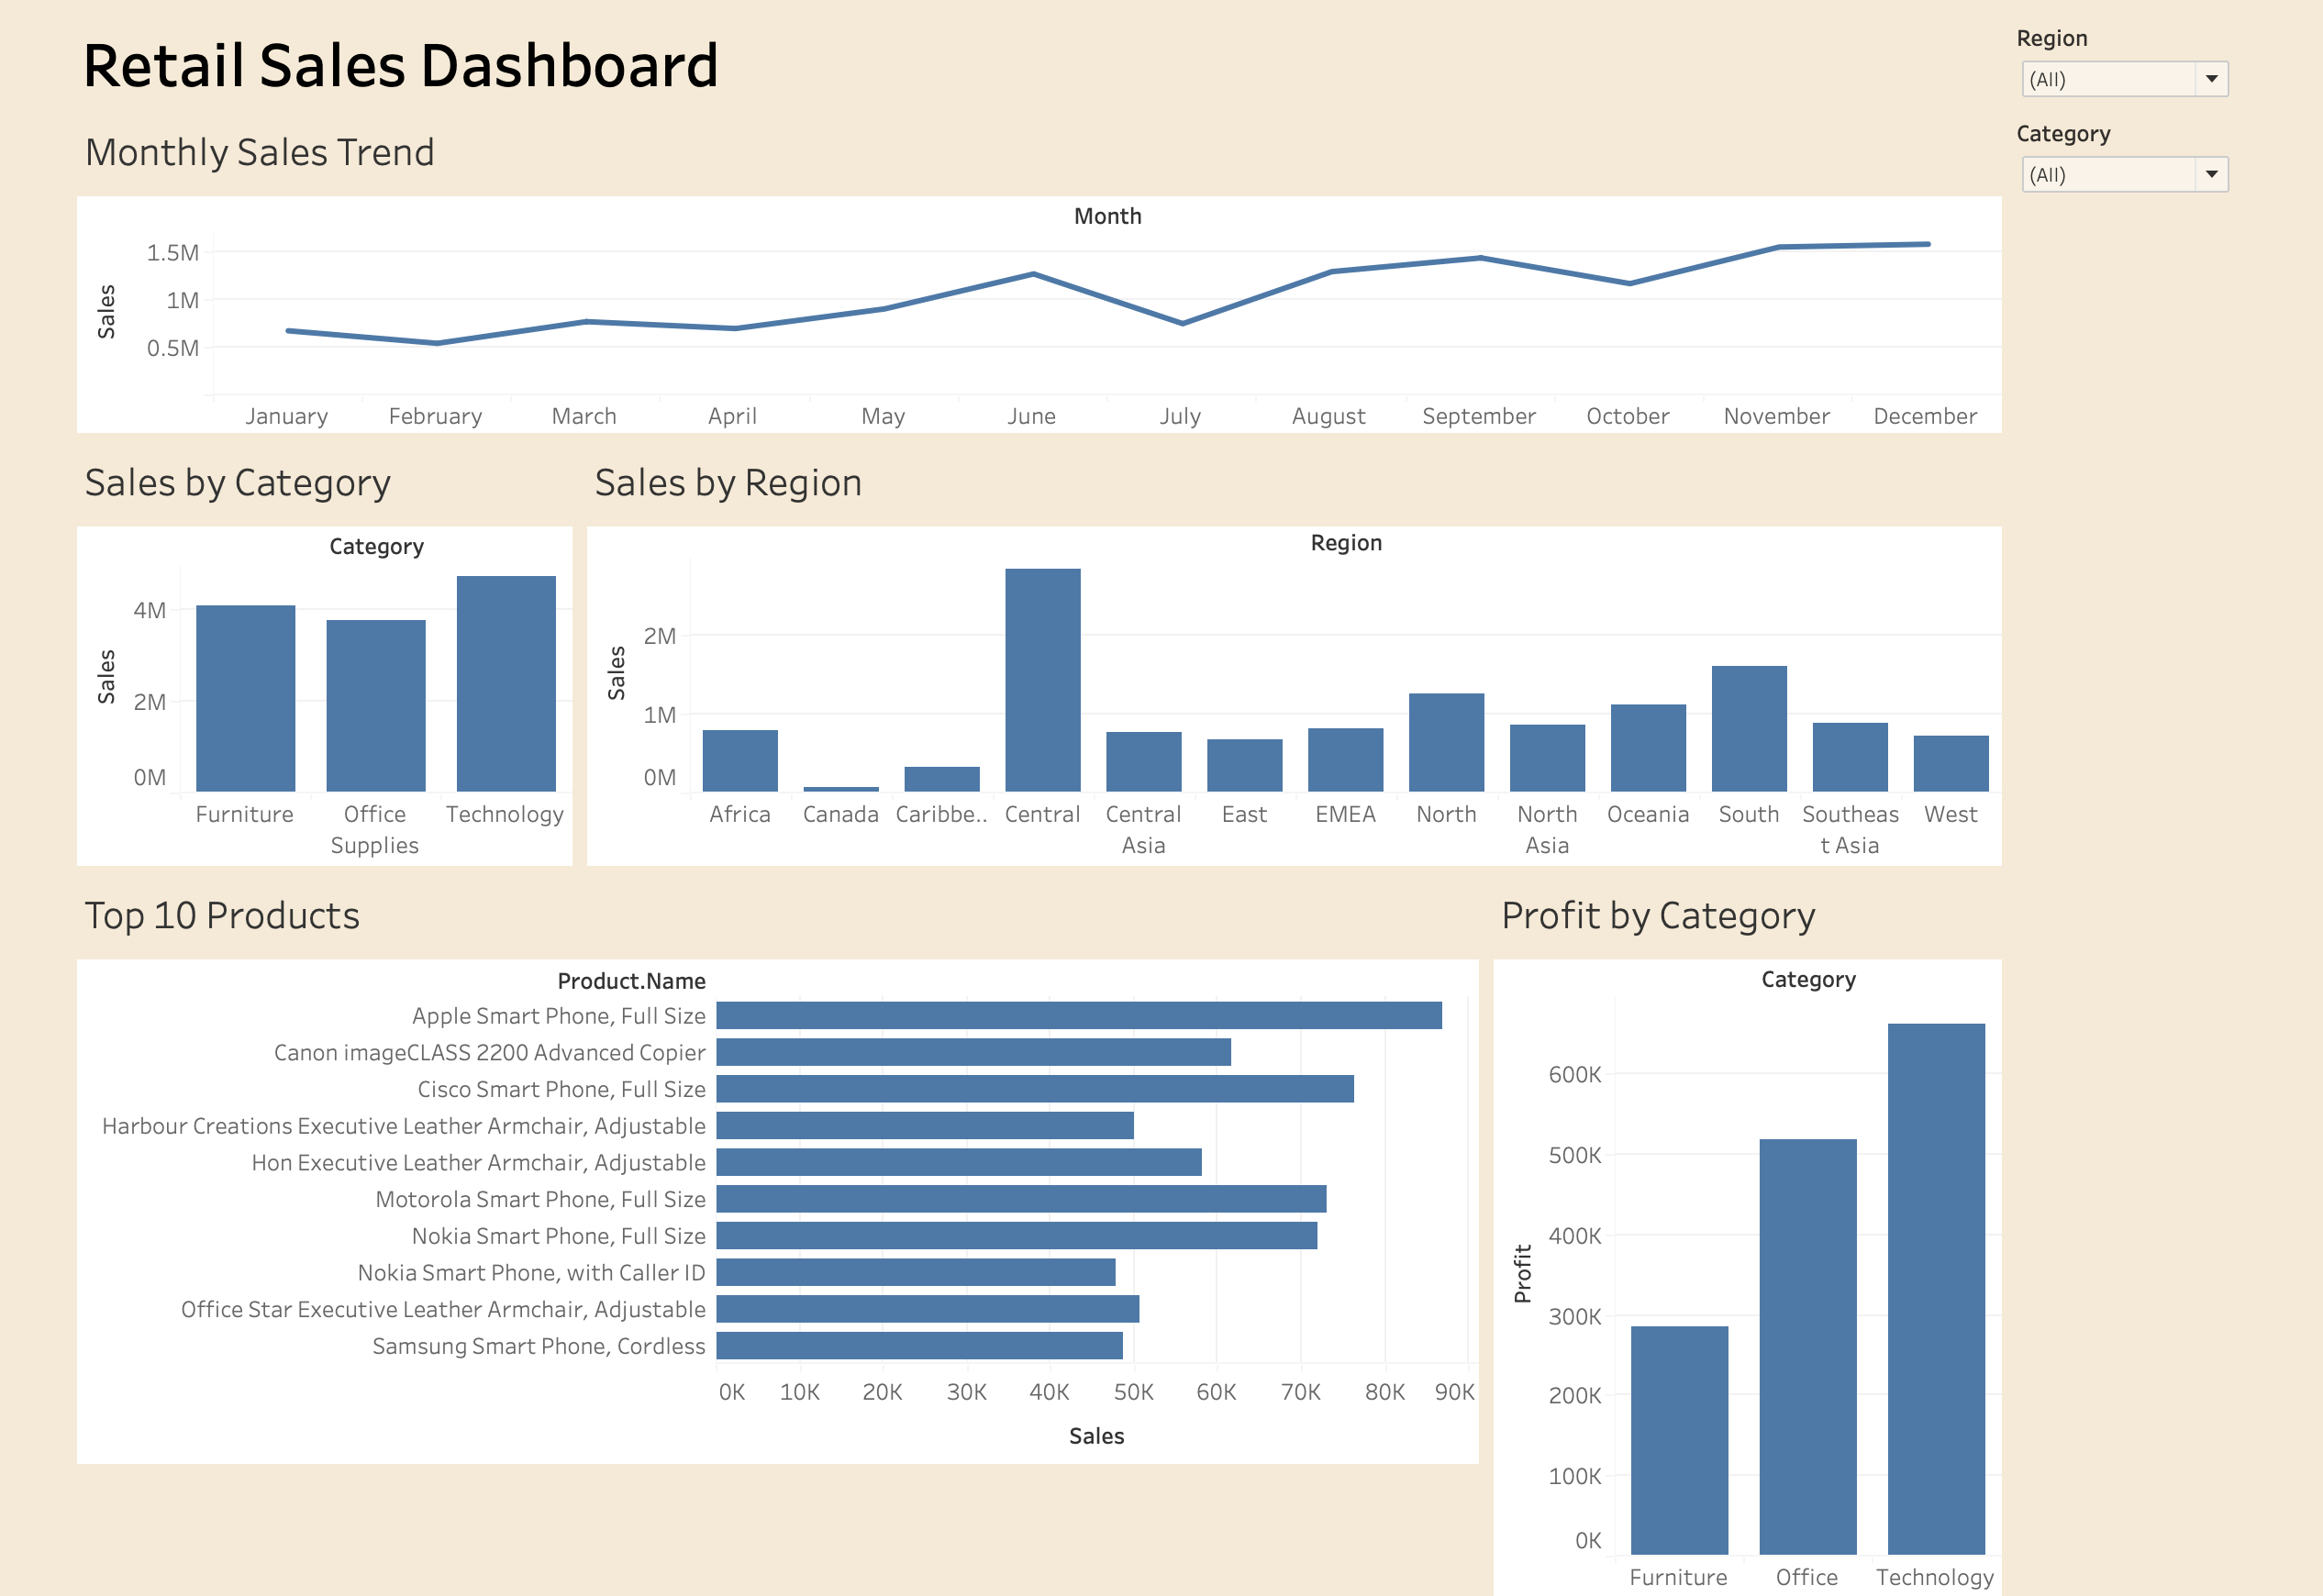

The page's visual inventory and layout, read from the dashboard file:
{"tool":"tableau","page":{"name":"Global Retail Sales Dashboard","canvas":[1200,900],"ordinal":0},"visuals":[{"type":"title","box":[8,8,1057,52]},{"type":"filter","title":"Sales by Region","param":"[federated.1r5ti1q0j60fgp1dpxnqu0szfzlu].[none:Region:nk]","box":[1065,8,127,52]},{"type":"worksheet","title":"Monthly Sales Trend","mark":"Line","rows":["Sales"],"cols":["Month"],"box":[8,60,1057,180]},{"type":"filter","title":"Sales by Category","param":"[federated.1r5ti1q0j60fgp1dpxnqu0szfzlu].[none:Category:nk]","box":[1065,60,127,52]},{"type":"worksheet","title":"Sales by Category","mark":"Bar","rows":["Sales"],"cols":["Category"],"box":[8,240,278,235.9]},{"type":"worksheet","title":"Sales by Region","mark":"Automatic","rows":["Sales"],"cols":["Region"],"box":[286,240,778.9,235.9]},{"type":"worksheet","title":"Top 10 Products","mark":"Automatic","rows":["Product.Name"],"cols":["Sales"],"box":[8,475.9,772,416.1]},{"type":"worksheet","title":"Profit by Category","mark":"Automatic","rows":["Profit"],"cols":["Category"],"box":[780,475.9,285,416.1]}]}

Visuals, with their boxes on the page's 1200x900 design canvas (x1, y1, x2, y2). These are canvas units, not pixel positions in the 2323x1596 screenshot, which may show the page scaled, cropped or inside an application window:
title: 8,8,1065,60
"Sales by Region" filter: 1065,8,1192,60
"Monthly Sales Trend" worksheet (Line marks): 8,60,1065,240
"Sales by Category" filter: 1065,60,1192,112
"Sales by Category" worksheet (Bar marks): 8,240,286,476
"Sales by Region" worksheet: 286,240,1065,476
"Top 10 Products" worksheet: 8,476,780,892
"Profit by Category" worksheet: 780,476,1065,892
